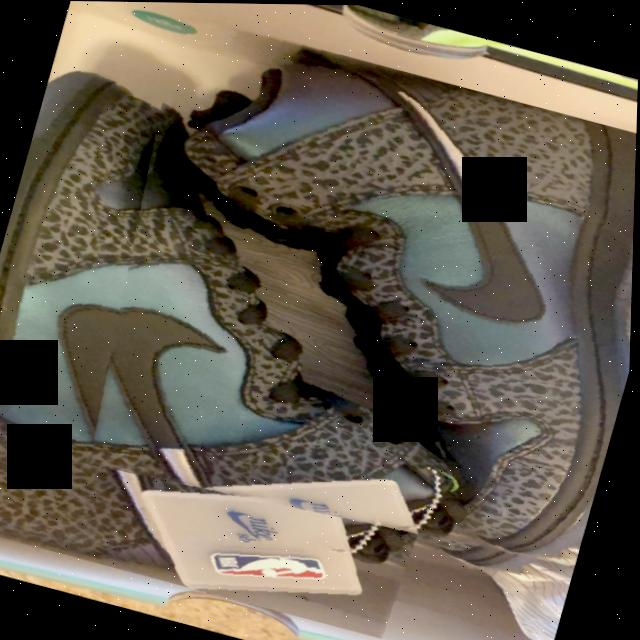shoe: (55, 10, 640, 590), (0, 53, 541, 640)
